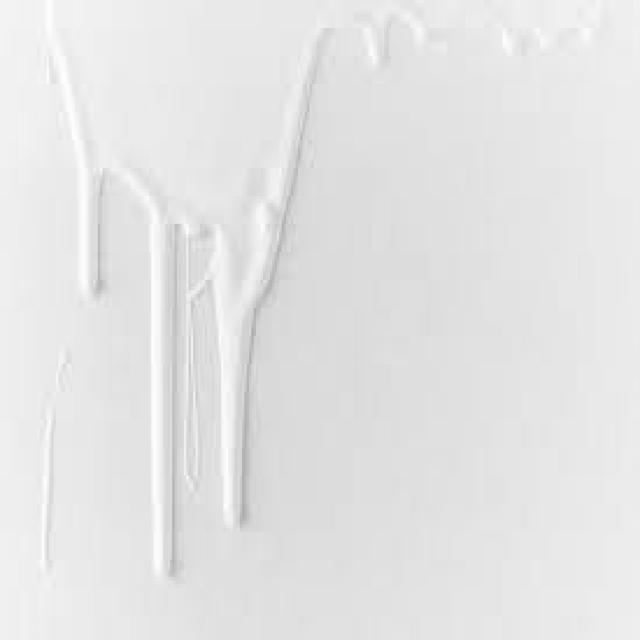paint drips: (34, 16, 342, 596), (348, 2, 624, 77)
